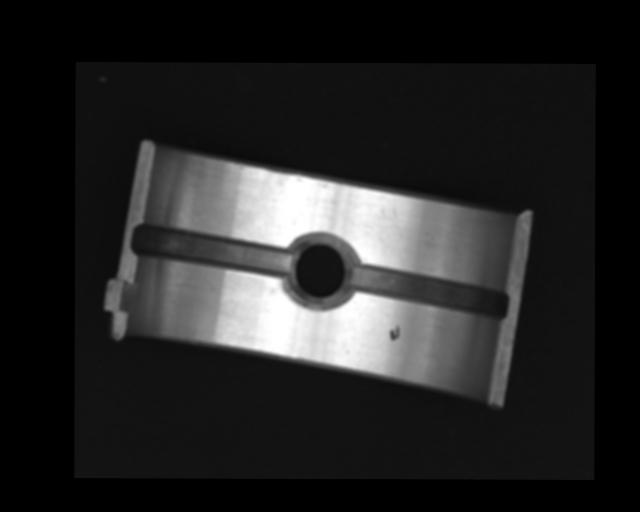blot: (390, 324, 400, 341)
gap: (131, 223, 295, 278), (351, 261, 507, 317)
hole: (290, 235, 355, 305)
